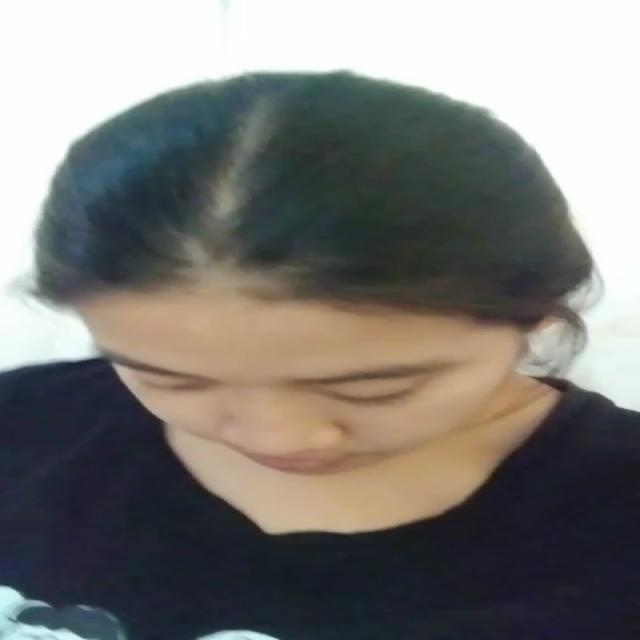9_cabeza_baja: (34, 70, 598, 478)
